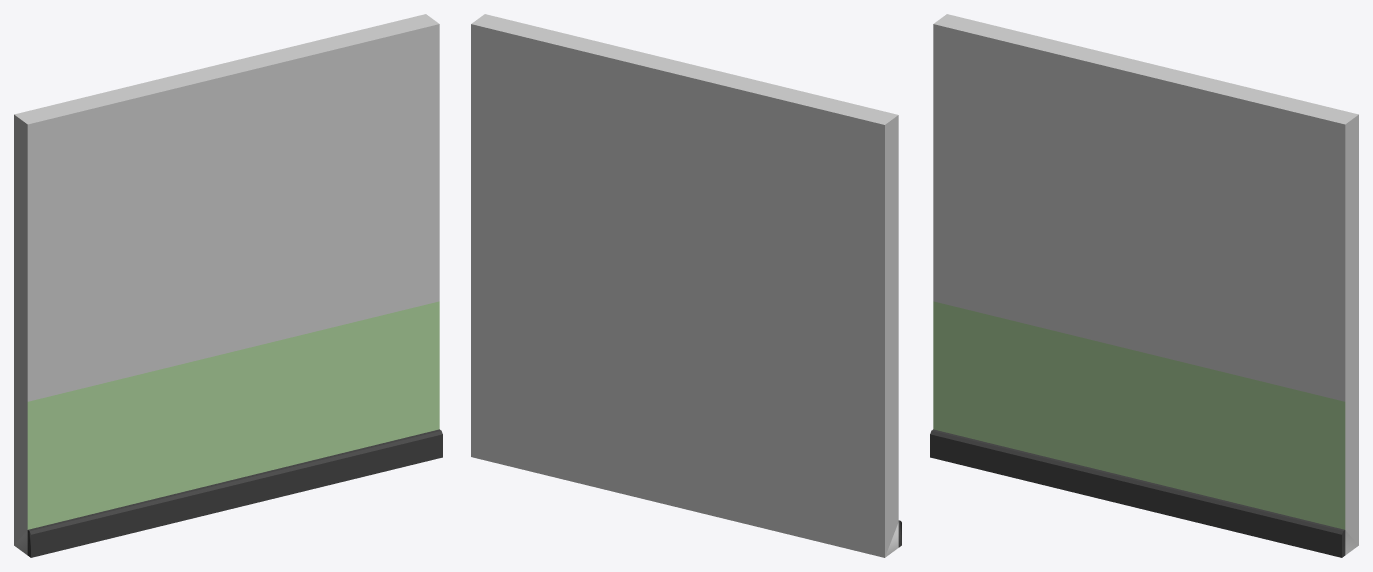
The model's file is School_Wall_Full.fbx.
3 renders of one model, left to right at view 1: azimuth 30°, elevation 25°; view 2: azimuth 150°, elevation 25°; view 3: azimuth 330°, elevation 25°, orthographic.
Visible parts, largest first — view 1: School_Wall2_Full; view 2: School_Wall2_Full; view 3: School_Wall2_Full.
Boxes of the visible parts, left/top/right/bottom form: School_Wall2_Full: left=14, top=14, right=442, bottom=557; School_Wall2_Full: left=471, top=14, right=901, bottom=557; School_Wall2_Full: left=930, top=14, right=1358, bottom=557.
Bounding box in the file's own units: 250 × 250 × 17.83.
